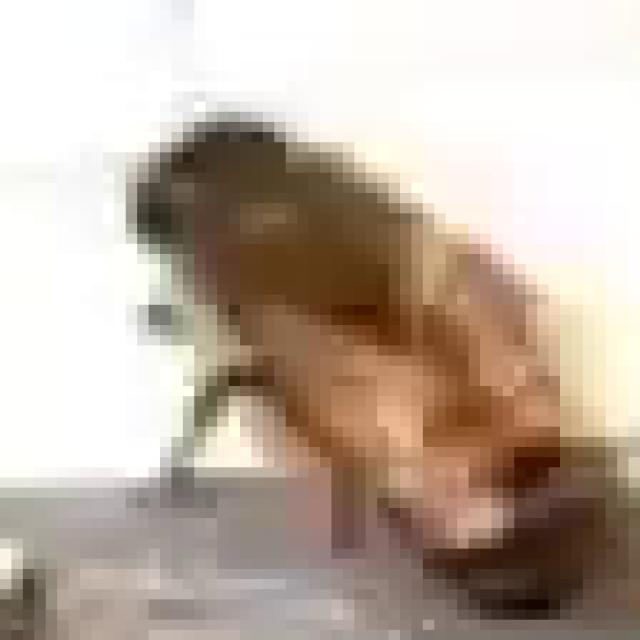honeybee: (116, 104, 604, 611)
